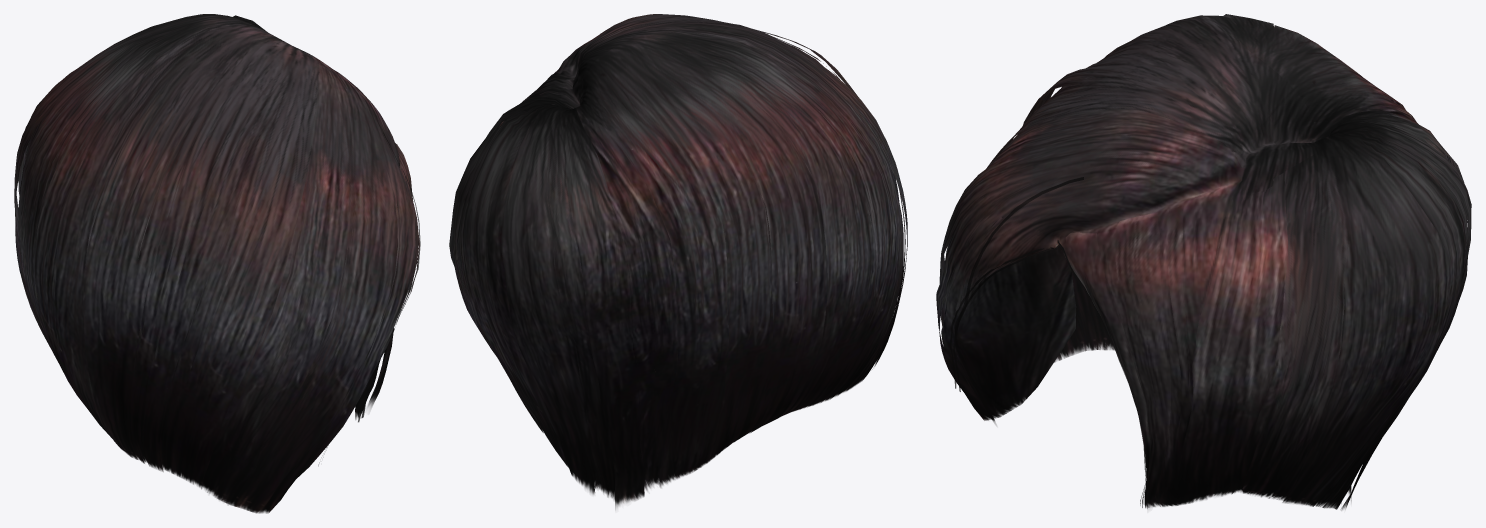
File: hair-female-bob01.glb
The picture shows the model from 3 angles, left to right: view 1: azimuth 30°, elevation 25°; view 2: azimuth 150°, elevation 25°; view 3: azimuth 270°, elevation 25°; orthographic projection. The views are drawn at different scales.
Visible parts, largest first — view 1: bob01; view 2: bob01; view 3: bob01.
Part boxes in pixels (bbox=[...]): bob01: bbox=[14, 14, 420, 513]; bob01: bbox=[449, 14, 907, 509]; bob01: bbox=[936, 14, 1471, 510].
Size of the model in its own units: 0.4397 by 0.4964 by 0.5165.
Materials: 1 (1 with a texture image).
